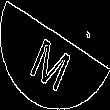M_NE: (30, 22, 80, 88)
